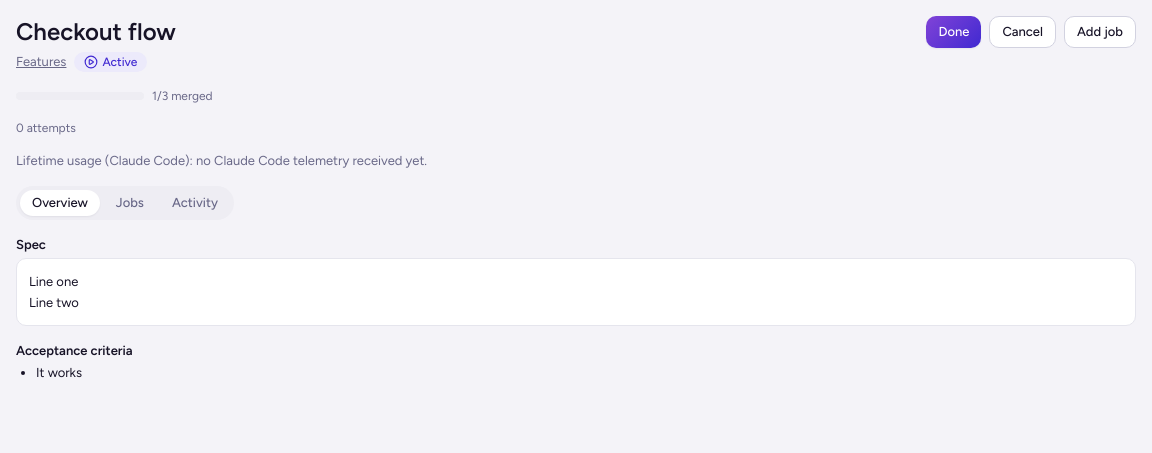
FeatureDetailView › shows a note for a cycle without crashing
This screenshot has width=1152, height=453.
Click the tab "Jobs".
click(130, 203)  # box top-left (104, 190), bottom-right (156, 216)
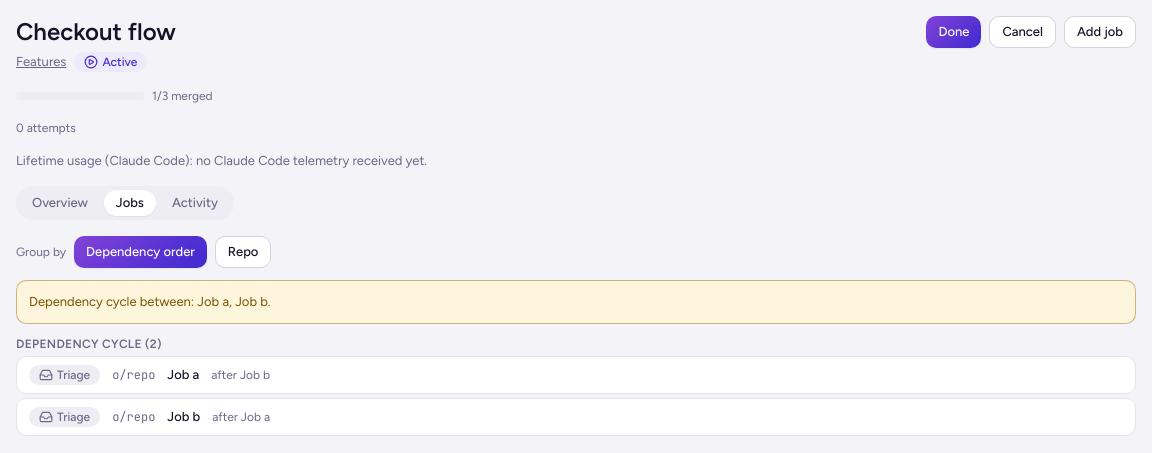
Expected: the element showing "Dependency cycle between: Job a, Job b." is shown, top-left (16, 280), bottom-right (1136, 324)
